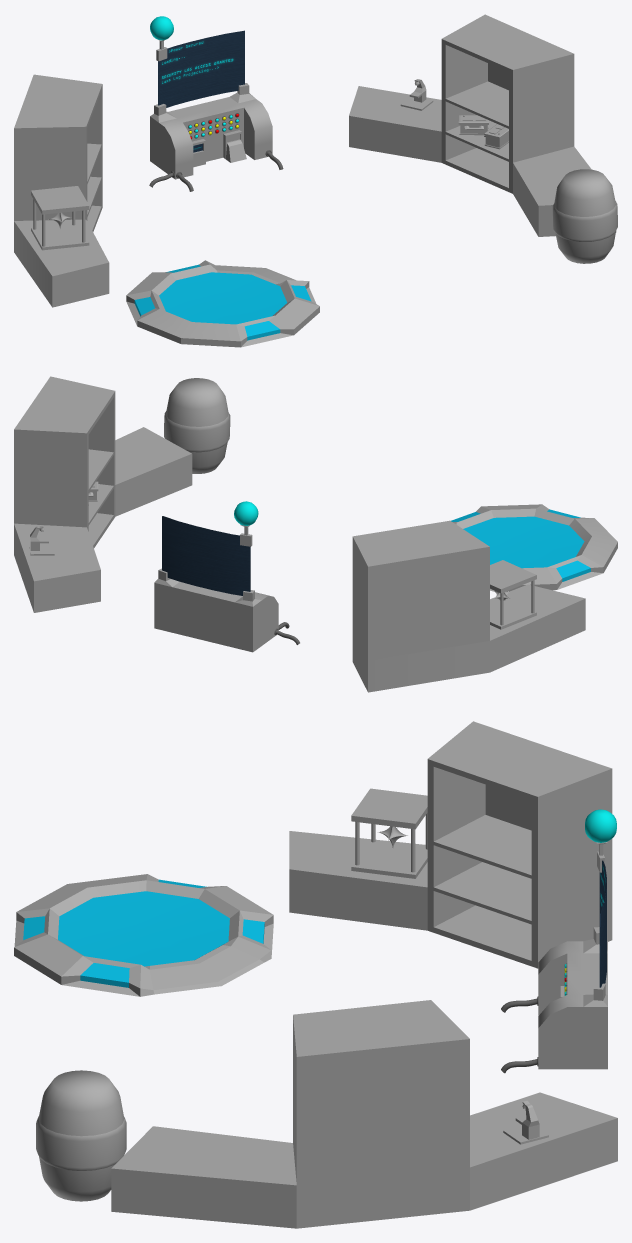
File: Interior-Models.fbx
3 views of the same model, one above another, from view 1: azimuth 30°, elevation 25°; view 2: azimuth 150°, elevation 25°; view 3: azimuth 270°, elevation 25° (orthographic). The views are drawn at different scales.
Visible parts, largest first — view 1: polySurface3 (×2), charging_pad1:pad_ring1, main_terminal, Barrel, charging_pad1:pad_platform1, screen_1, polySurface14, polySurface5, polySurface4, left_protrusion, Battery, Battery1 (+2 smaller); view 2: polySurface3 (×2), main_terminal, screen_1, Barrel, charging_pad1:pad_platform1, charging_pad1:pad_ring1, polySurface14, polySurface5, pSphere1, polySurface7, polySurface4, charging_pad1:pad_light3; view 3: polySurface3 (×2), charging_pad1:pad_ring1, charging_pad1:pad_platform1, Barrel, main_terminal, polySurface14, polySurface5, polySurface4, screen_1, charging_pad1:pad_light1, pSphere1, polySurface7.
Part boxes in pixels (bbox=[...]): polySurface3 (×2): bbox=[14, 14, 616, 307]; charging_pad1:pad_ring1: bbox=[126, 260, 319, 347]; main_terminal: bbox=[150, 83, 272, 179]; Barrel: bbox=[552, 169, 617, 263]; charging_pad1:pad_platform1: bbox=[159, 272, 287, 324]; screen_1: bbox=[158, 30, 244, 107]; polySurface14: bbox=[31, 186, 89, 250]; polySurface5: bbox=[445, 81, 508, 128]; polySurface4: bbox=[445, 120, 508, 161]; left_protrusion: bbox=[223, 130, 246, 162]; Battery: bbox=[458, 115, 488, 135]; Battery1: bbox=[484, 124, 508, 149]; polySurface3 (×2): bbox=[14, 376, 585, 692]; main_terminal: bbox=[154, 568, 278, 652]; screen_1: bbox=[162, 516, 250, 595]; Barrel: bbox=[164, 378, 230, 473]; charging_pad1:pad_platform1: bbox=[463, 516, 584, 568]; charging_pad1:pad_ring1: bbox=[452, 504, 617, 591]; polySurface14: bbox=[490, 560, 536, 629]; polySurface5: bbox=[88, 449, 113, 491]; pSphere1: bbox=[234, 501, 258, 525]; polySurface7: bbox=[29, 525, 54, 555]; polySurface4: bbox=[88, 484, 113, 525]; charging_pad1:pad_light3: bbox=[556, 560, 590, 581]; polySurface3 (×2): bbox=[111, 721, 617, 1228]; charging_pad1:pad_ring1: bbox=[14, 874, 273, 996]; charging_pad1:pad_platform1: bbox=[58, 891, 229, 966]; Barrel: bbox=[36, 1070, 126, 1201]; main_terminal: bbox=[538, 927, 607, 1069]; polySurface14: bbox=[351, 788, 427, 878]; polySurface5: bbox=[433, 815, 531, 878]; polySurface4: bbox=[433, 862, 531, 924]; screen_1: bbox=[599, 860, 606, 987]; charging_pad1:pad_light1: bbox=[80, 963, 129, 987]; pSphere1: bbox=[585, 809, 616, 842]; polySurface7: bbox=[503, 1100, 548, 1144].
Bounding box in the file's own units: 2129 × 612 × 1533.
